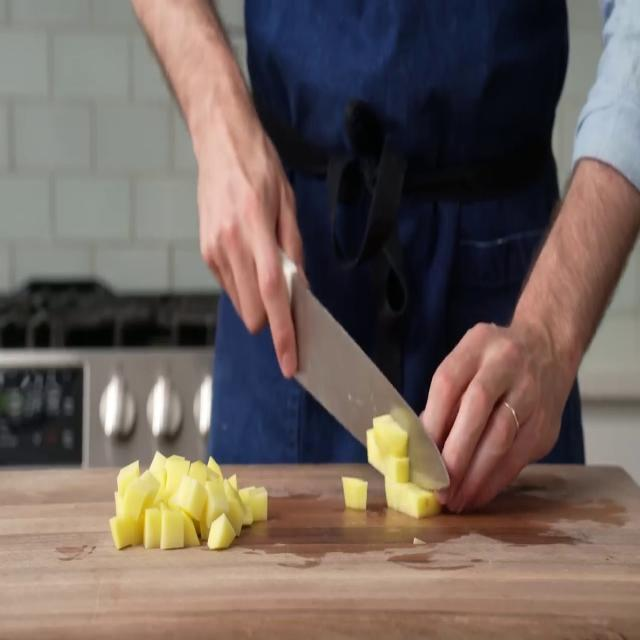Knife: (246, 230, 451, 508)
